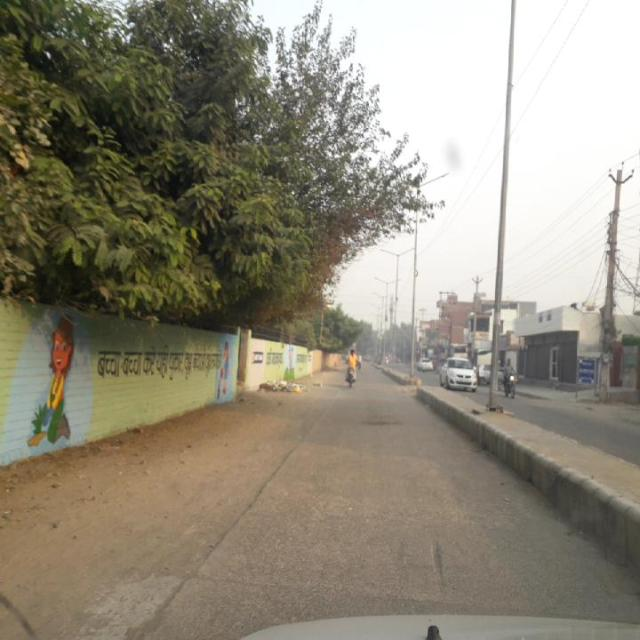Crack: (152, 363, 486, 640)
